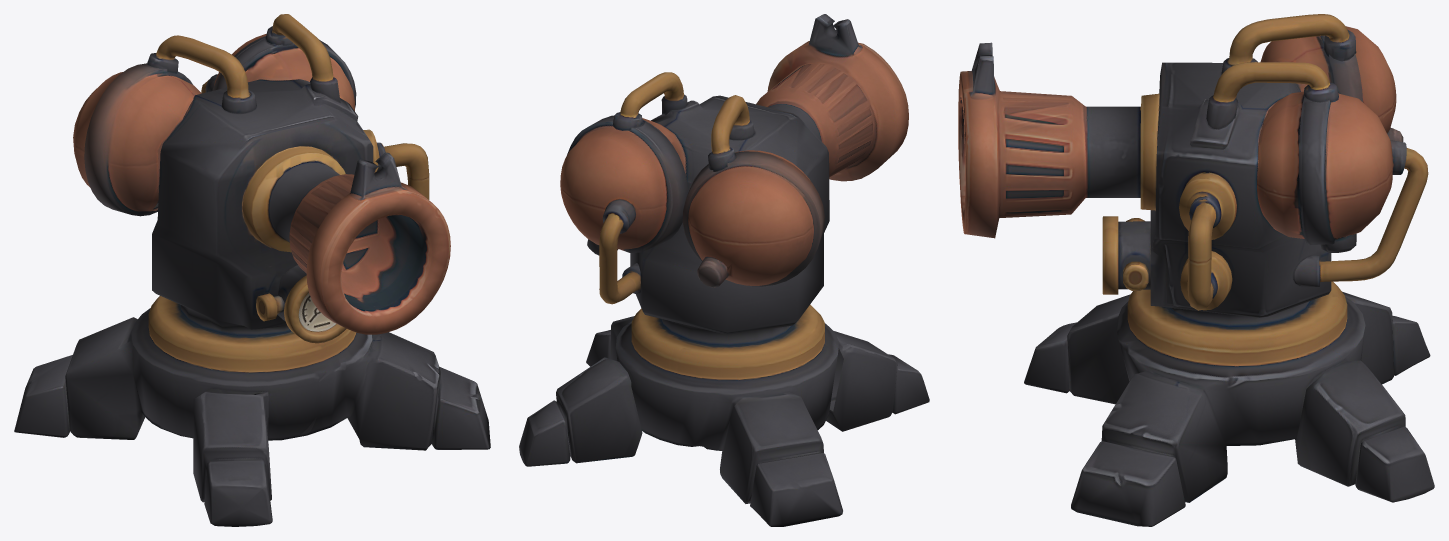
Rendered from clockwork-flame-ready.glb.
3 renders of one model, left to right at view 1: azimuth 30°, elevation 25°; view 2: azimuth 150°, elevation 25°; view 3: azimuth 270°, elevation 25°, orthographic. The views are drawn at different scales.
Parts seen in each view (by area): view 1: head, base; view 2: head, base; view 3: head, base.
Part boxes in pixels (left/top/right/bottom): head: left=73, top=14, right=450, bottom=363; base: left=14, top=308, right=490, bottom=526; head: left=560, top=14, right=908, bottom=371; base: left=519, top=316, right=929, bottom=526; head: left=958, top=14, right=1428, bottom=356; base: left=1024, top=291, right=1434, bottom=526.
Bounding box in the file's own units: 14.39 × 13.88 × 14.99.
1 material, 1 textured.
